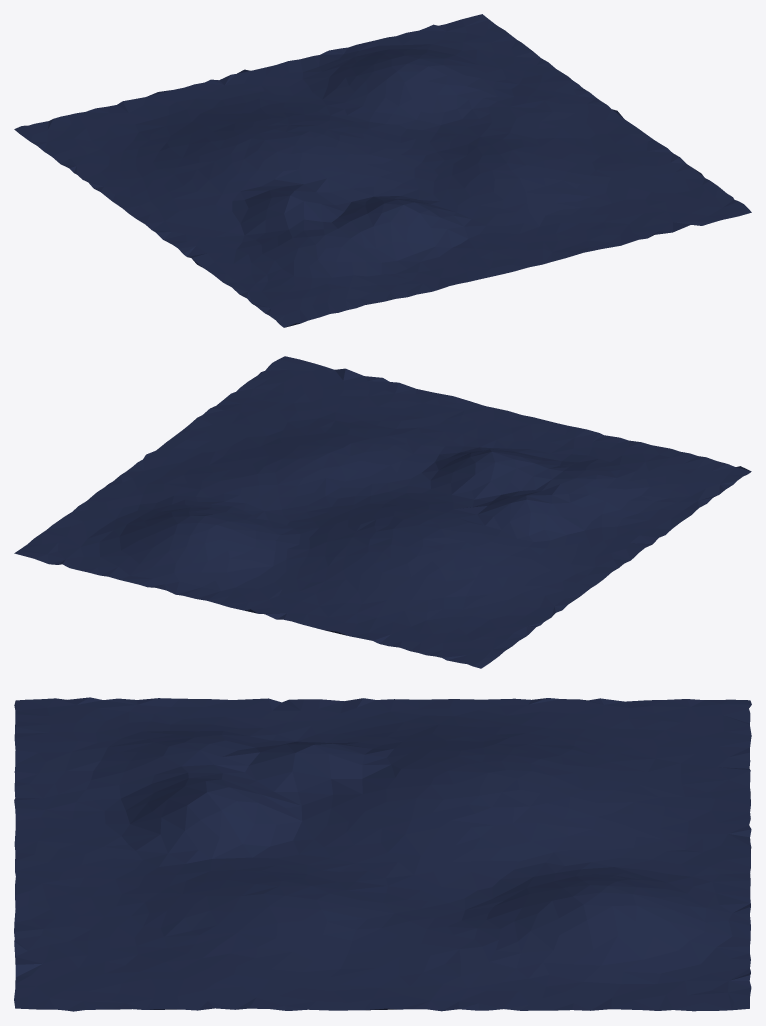
File: GroundPiece.fbx
3 views of the same model, one above another, from view 1: azimuth 30°, elevation 25°; view 2: azimuth 150°, elevation 25°; view 3: azimuth 270°, elevation 25° (orthographic). The views are drawn at different scales.
Parts seen in each view (by area): view 1: Plane.001; view 2: Plane.001; view 3: Plane.001.
Part boxes in pixels (box(x1,y1,x2,y2)): Plane.001: box(14, 14, 751, 327); Plane.001: box(14, 356, 751, 668); Plane.001: box(14, 697, 751, 1011).
Size of the model in its own units: 2008 by 106 by 2007.
